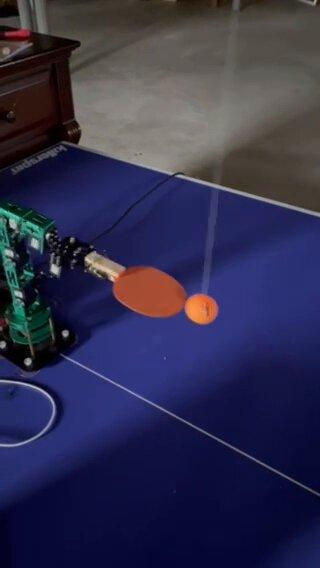oball: (185, 293, 220, 321)
